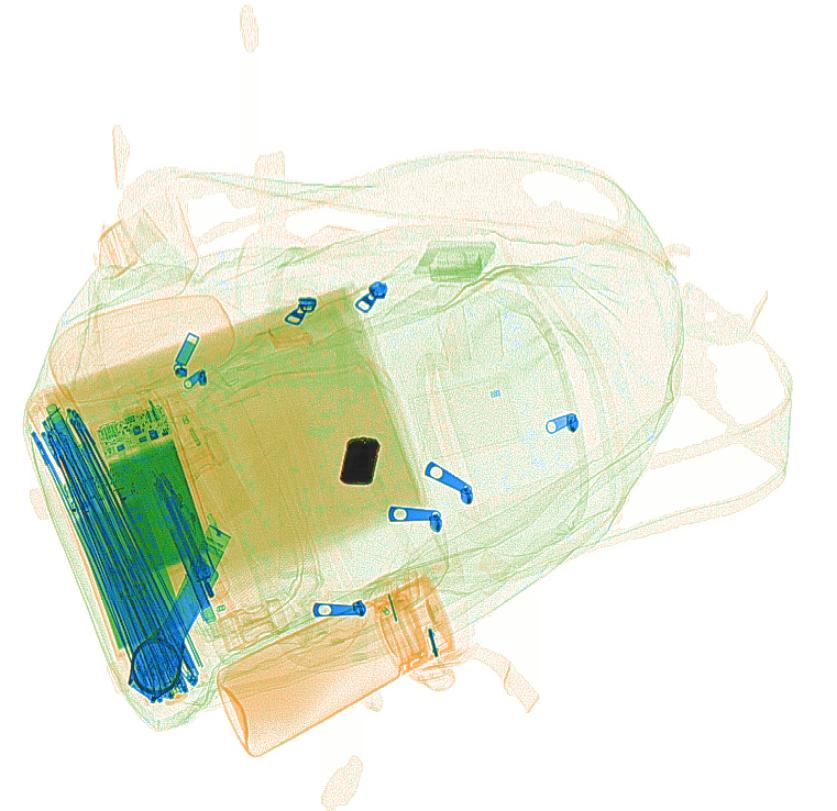plasticBottleWithaNozzle: (159, 388, 255, 534)
